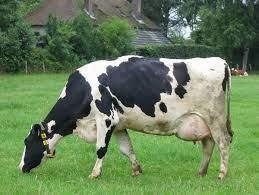cow: (17, 54, 234, 181)
